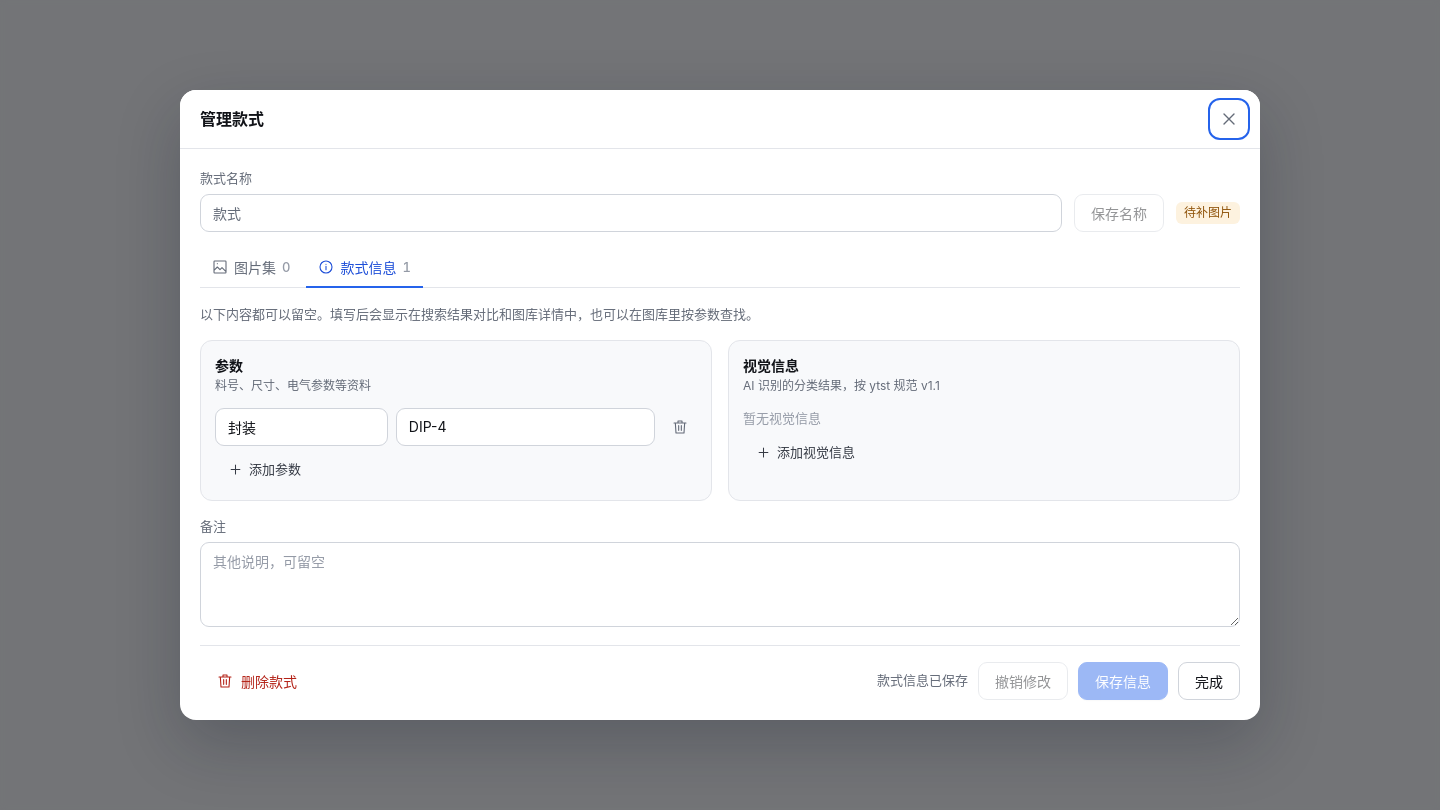
Test: style info › edits and saves optional parameters and visual traits
Expected: the field named "参数 1 内容" holds "DIP-4", 396,408 -> 655,446
Step 1. Click the 1st button with class "ghost" → [806, 453], box 743,437 -> 868,469
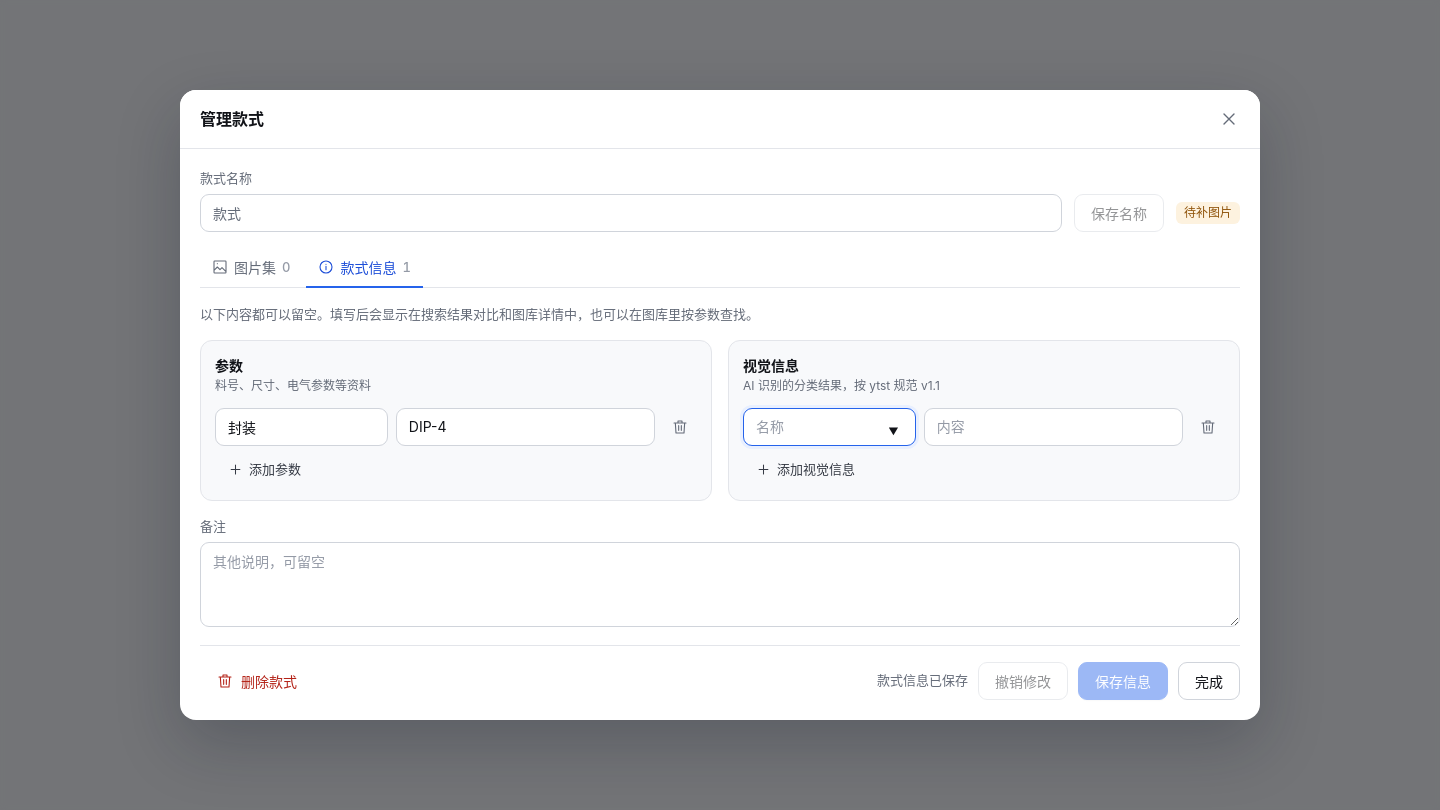
Step 2. Type "颜色" into the field named "视觉信息 1 名称" → [829, 426], box 743,408 -> 916,446
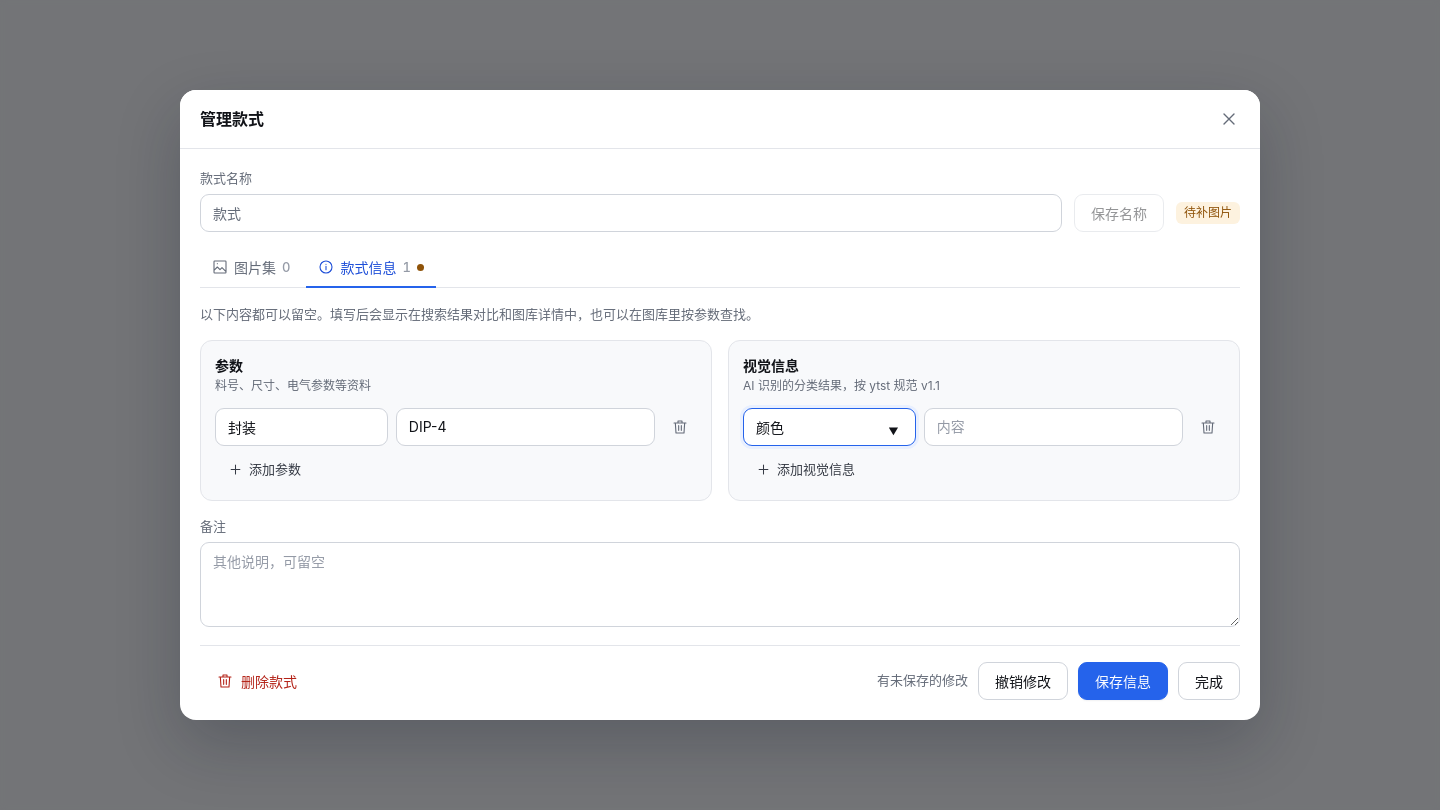
Step 3. Type "红色" into the field named "视觉信息 1 内容" → [1053, 426], box 924,408 -> 1183,446
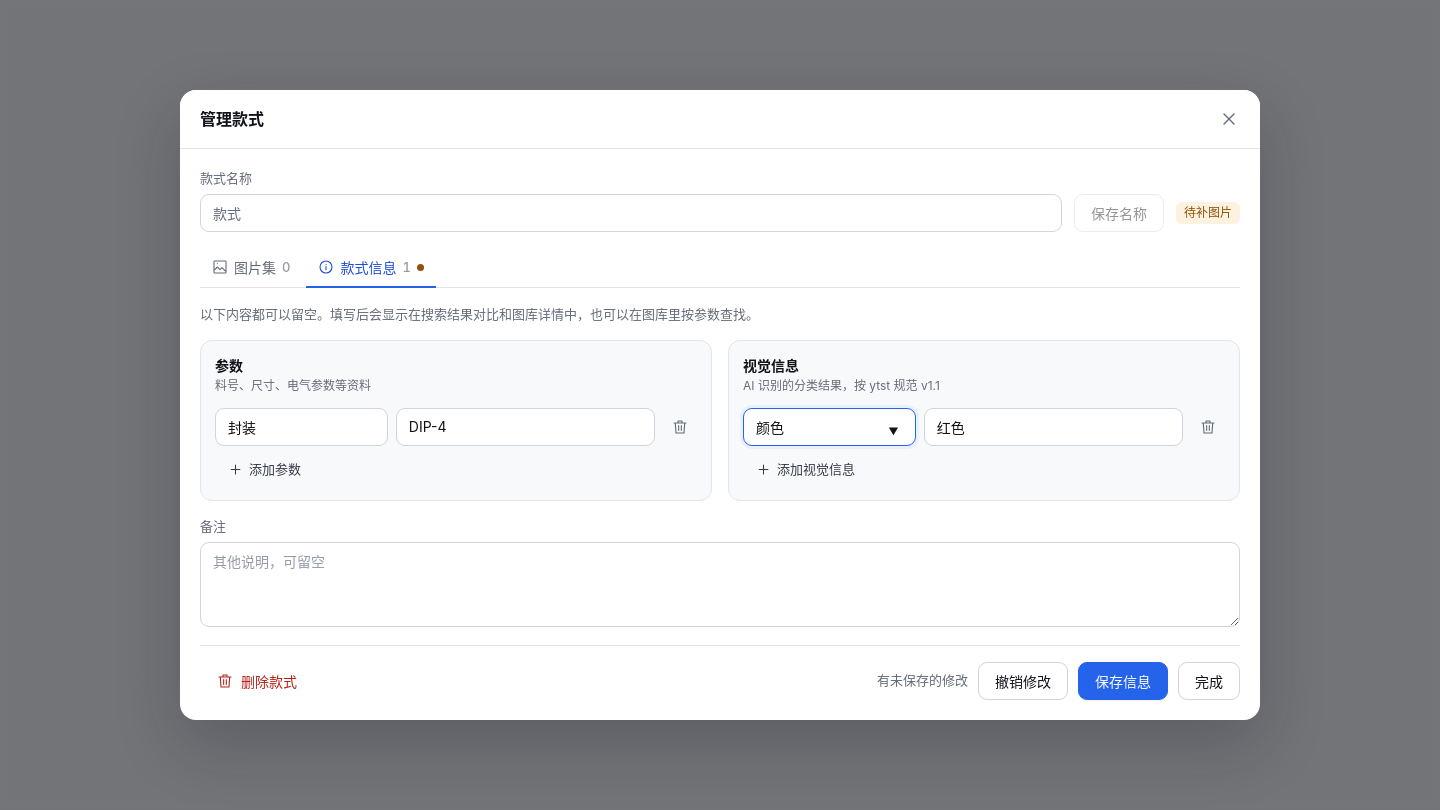
Now the button "保存信息" is enabled, box 1078,662 -> 1168,700
Step 4. Submit the form with class "info-form", box 200,304 -> 1240,627
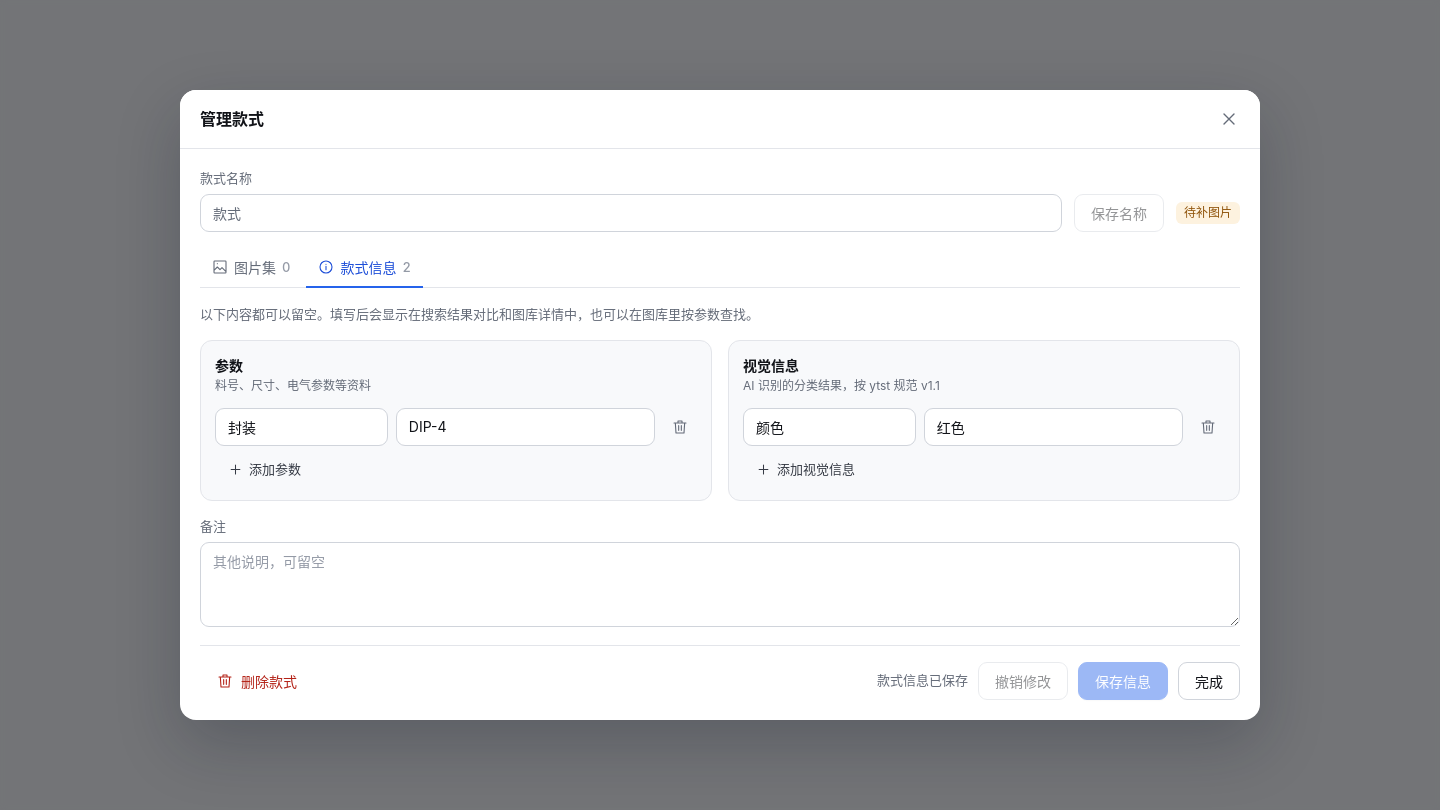
Now the button "保存信息" is disabled, box 1078,662 -> 1168,700
